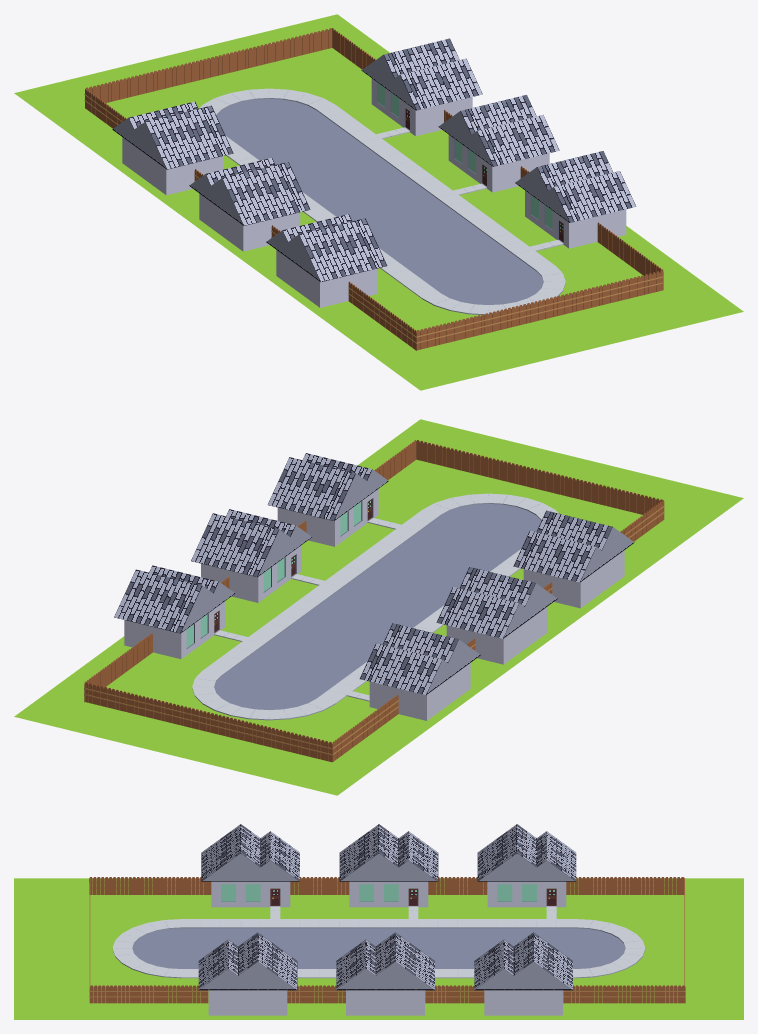
Rendered from level1.glb.
The picture shows the model from 3 angles, top to bottom: view 1: azimuth 30°, elevation 25°; view 2: azimuth 150°, elevation 25°; view 3: azimuth 270°, elevation 25°; orthographic projection. The views are drawn at different scales.
Parts seen in each view (by area): view 1: Circle, Circle.001, House.005, House.003, House.004, House, House.002, House.001, Street, Street.003, Street.002, Street.001; view 2: Circle, Circle.001, House.002, House.003, House.005, House.004, House, House.001, Street.003, Street, Street.002, Street.001; view 3: Circle, Circle.001, House.001, House.002, House, House.005, House.004, House.003, Street.001, Street.002, Street, Street.003 (+25 smaller).
Part boxes in pixels (<box>): Circle: <box>14,14,743,390</box>; Circle.001: <box>109,37,335,132</box>; House.005: <box>515,151,636,251</box>; House.003: <box>361,38,482,138</box>; House.004: <box>438,95,559,195</box>; House: <box>266,214,387,307</box>; House.002: <box>112,101,233,195</box>; House.001: <box>189,158,310,251</box>; Street: <box>380,225,554,298</box>; Street.003: <box>224,105,389,169</box>; Street.002: <box>292,145,444,218</box>; Street.001: <box>312,185,499,254</box>; Circle: <box>14,419,743,795</box>; Circle.001: <box>109,670,335,772</box>; House.002: <box>346,623,480,720</box>; House.003: <box>114,565,247,659</box>; House.005: <box>267,453,401,546</box>; House.004: <box>191,509,324,602</box>; House: <box>513,510,634,608</box>; House.001: <box>436,567,557,664</box>; Street.003: <box>203,630,368,703</box>; Street: <box>368,510,526,576</box>; Street.002: <box>258,590,443,658</box>; Street.001: <box>313,550,465,620</box>; Circle: <box>14,878,743,1019</box>; Circle.001: <box>576,919,743,978</box>; House.001: <box>339,824,438,918</box>; House.002: <box>477,824,576,918</box>; House: <box>201,824,299,918</box>; House.005: <box>198,932,297,1015</box>; House.004: <box>336,932,434,1015</box>; House.003: <box>474,932,572,1015</box>; Street.001: <box>280,919,378,978</box>; Street.002: <box>379,919,477,978</box>; Street: <box>181,919,280,978</box>; Street.003: <box>477,919,576,978</box>.
Bounding box in the file's own units: 34 × 6.3 × 74.
Materials: 5 (5 with a texture image).
